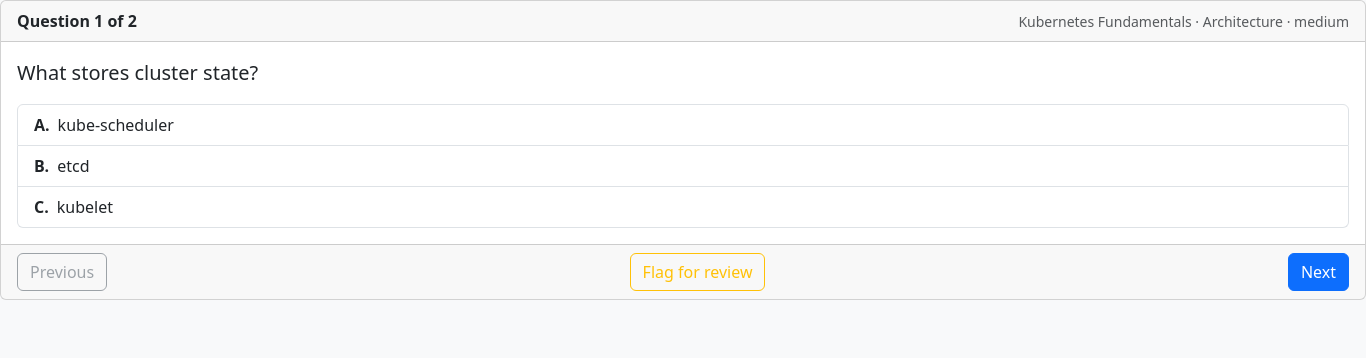
QuestionCard – exam mode › gives no feedback after selecting and allows navigation and flagging
The width and height of the screenshot is (1366, 358).
Expected: the button "Previous" is disabled, x1=17 y1=253 x2=107 y2=291
Click the button with test id "option-0".
click(116, 125)  # box x1=17 y1=104 x2=1349 y2=146
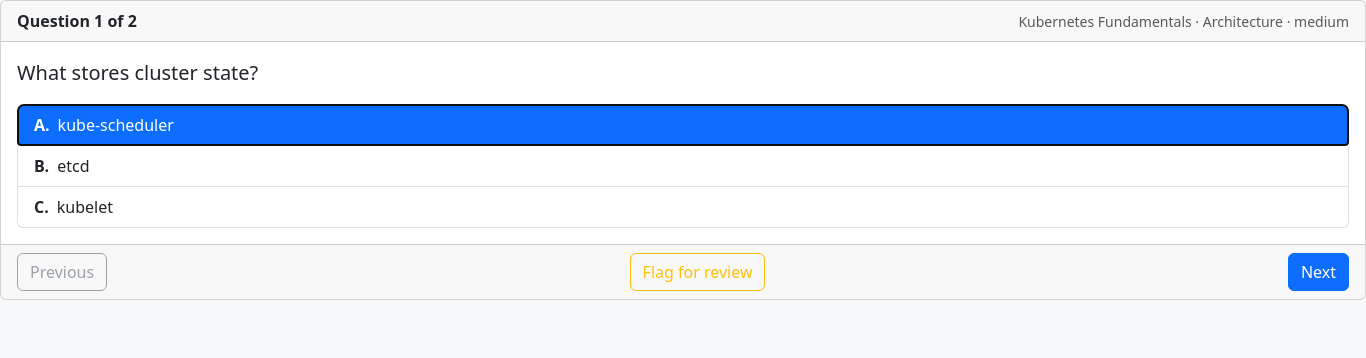
Result: the button with test id "option-0" has class "active" at x1=17 y1=104 x2=1349 y2=146
Click the button with test id "option-2".
click(85, 207)  # box x1=17 y1=187 x2=1349 y2=228
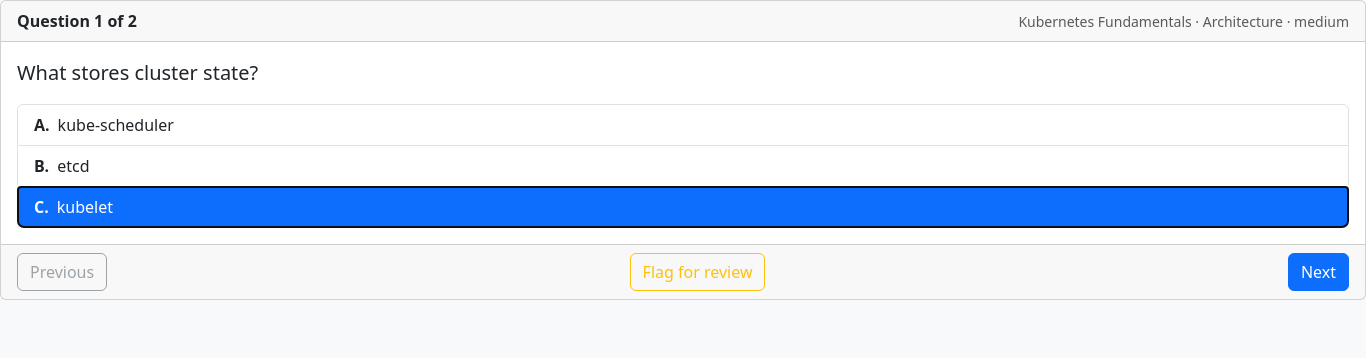
Result: the button with test id "option-2" has class "active" at x1=17 y1=186 x2=1349 y2=228
Click the button "Flag for review".
click(698, 272)  # box x1=630 y1=253 x2=766 y2=291
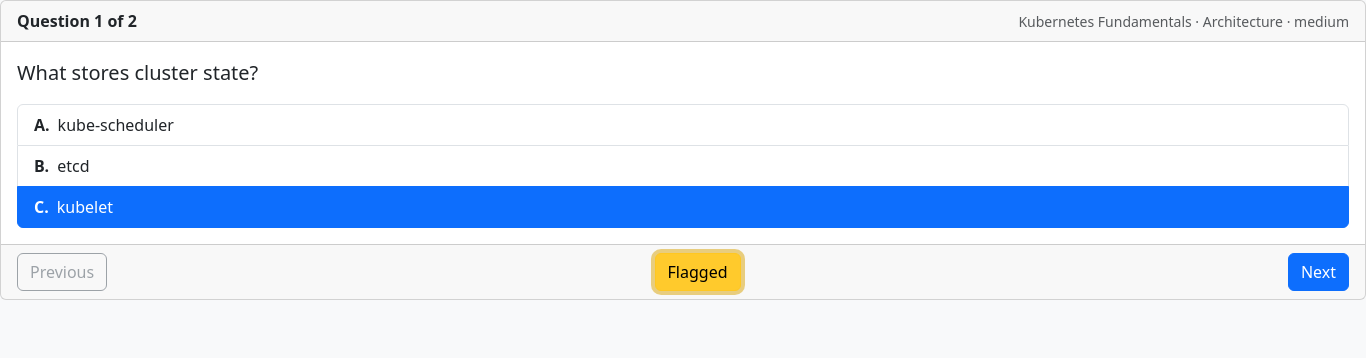
Result: the button "Flagged" is pressed at x1=654 y1=253 x2=740 y2=291
Click the button "Next".
click(1318, 272)  # box x1=1288 y1=253 x2=1349 y2=291
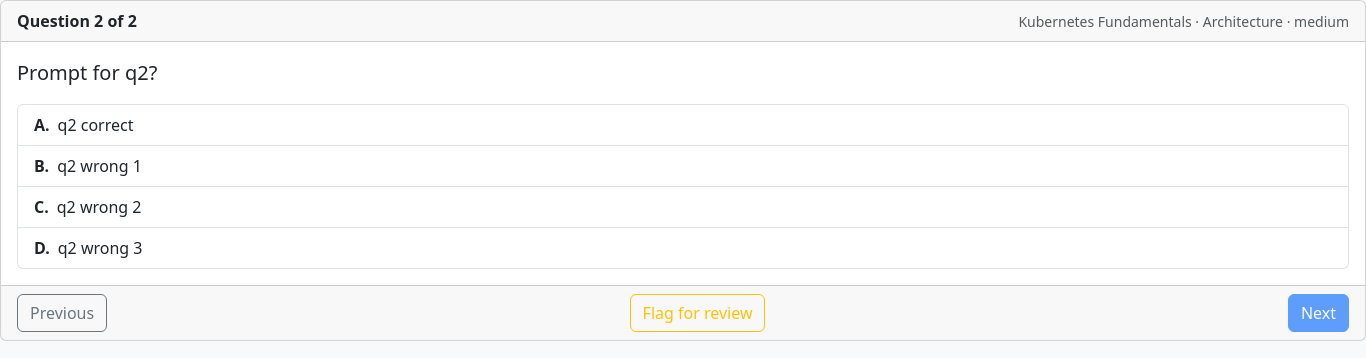
Result: the text "Question 2 of 2" is shown at x1=17 y1=9 x2=137 y2=33
Result: the button "Next" is disabled at x1=1288 y1=294 x2=1349 y2=332
Click the button "Previous".
click(62, 313)  # box x1=17 y1=294 x2=107 y2=332
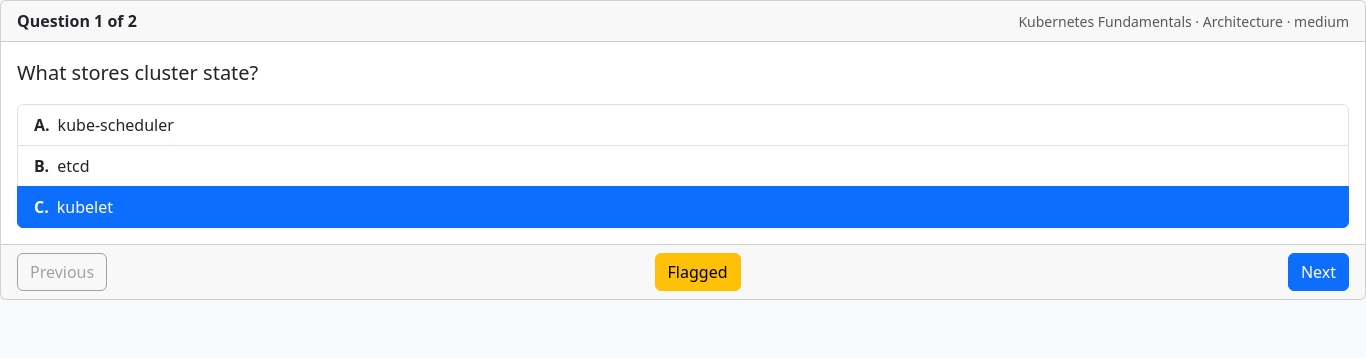
Result: the text "Question 1 of 2" is shown at x1=17 y1=9 x2=137 y2=33
